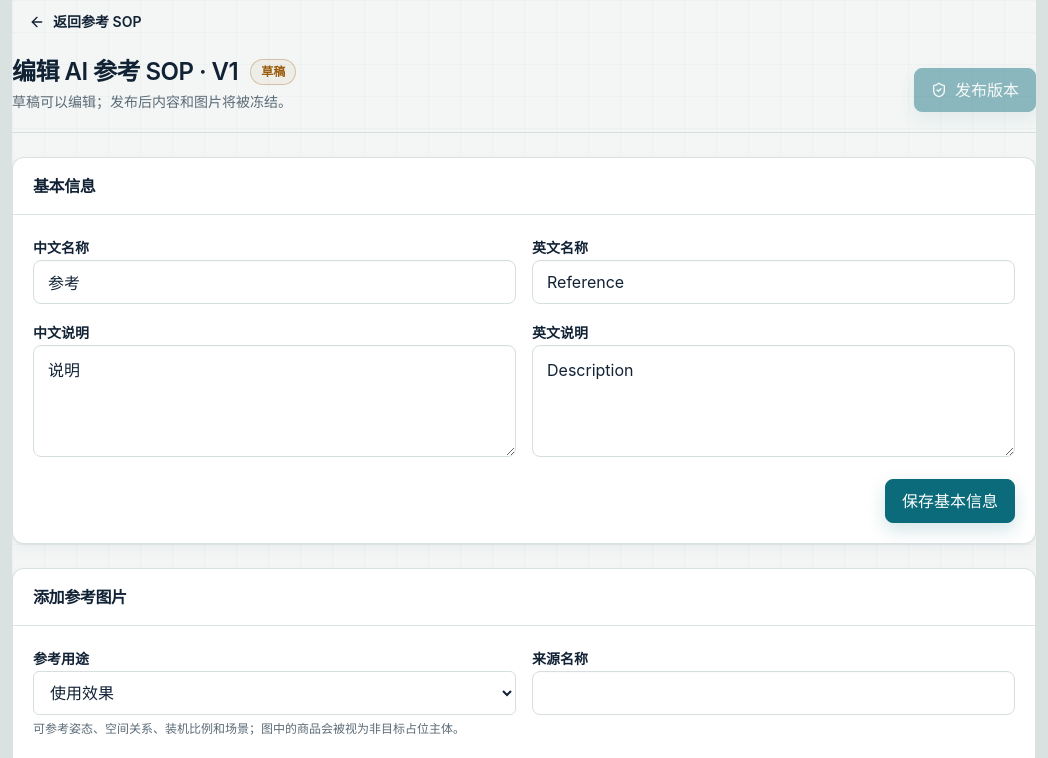
AIReferenceSOPEditor › explains how each purpose limits image-model inheritance
This screenshot has width=1048, height=758.
Expected: the text "可参考姿态、空间关系、装机比例和场景；图中的商品会被视为非目标占位主体。" is shown, x1=33 y1=721 x2=516 y2=737
Select "文案灵感" in the dropdown labelled "参考用途" at (274,693), box x1=33 y1=671 x2=516 y2=715
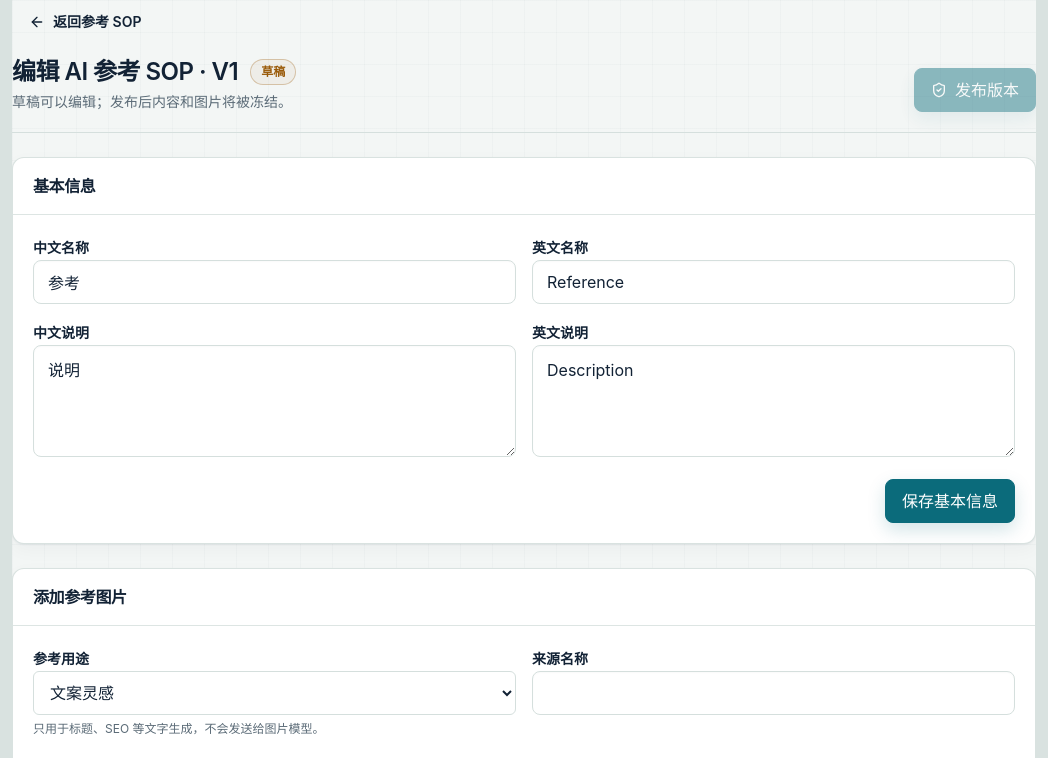
Now the text "只用于标题、SEO 等文字生成，不会发送给图片模型。" is shown, box x1=33 y1=721 x2=324 y2=736
Select "视觉风格" in the dropdown labelled "参考用途" at (274,693), box x1=33 y1=671 x2=516 y2=715
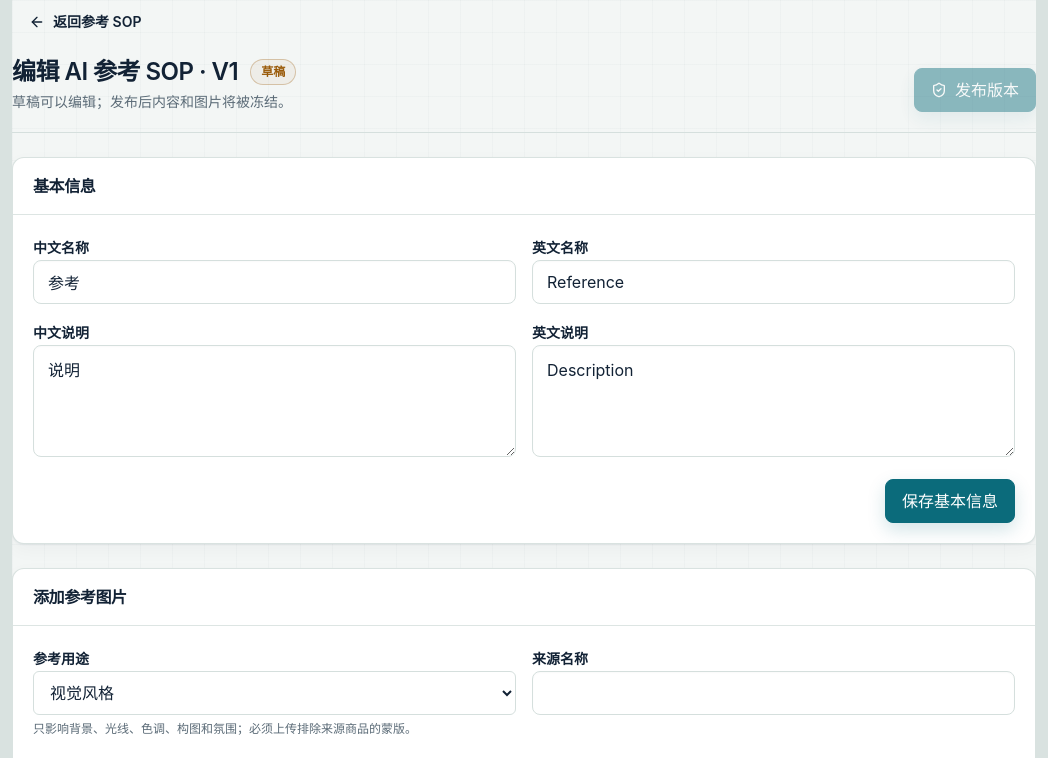
Now the text "只影响背景、光线、色调、构图和氛围；必须上传排除来源商品的蒙版。" is shown, box x1=33 y1=721 x2=417 y2=736
